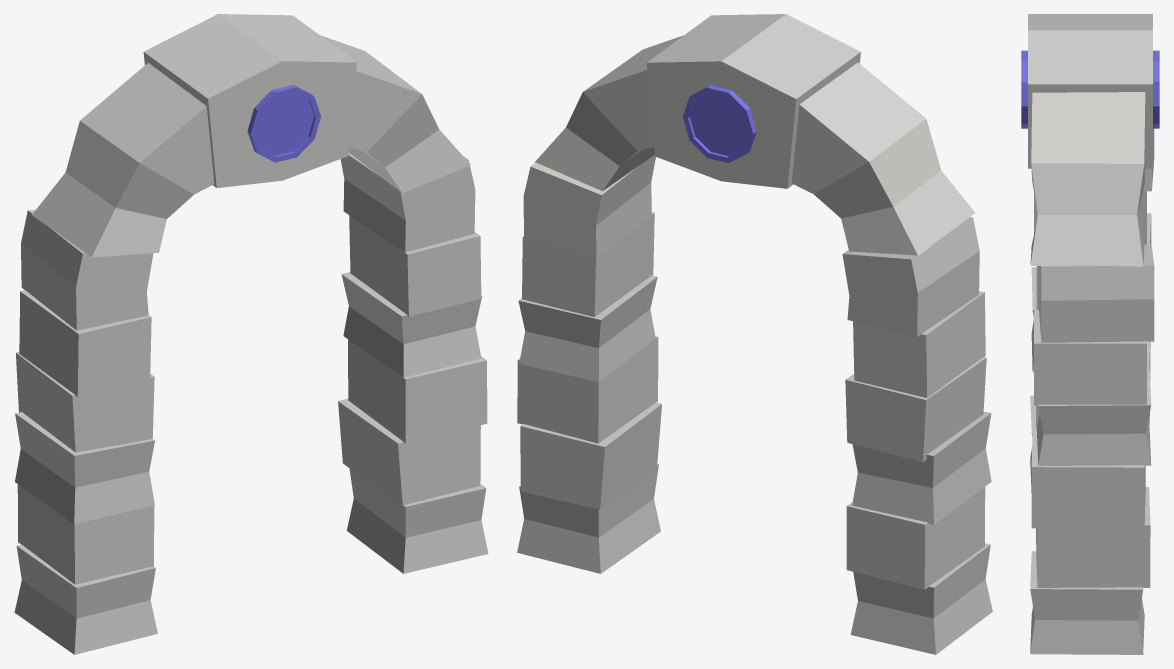
Rendered from Archway_4_White.fbx.
3 views of the same model, side by side, from view 1: azimuth 30°, elevation 25°; view 2: azimuth 150°, elevation 25°; view 3: azimuth 270°, elevation 25° (orthographic). The views are drawn at different scales.
Parts seen in each view (by area): view 1: Archway_4_White_Part_1, Archway_4_White_Part_2; view 2: Archway_4_White_Part_1, Archway_4_White_Part_2; view 3: Archway_4_White_Part_1, Archway_4_White_Part_2.
Part boxes in pixels (<box>): Archway_4_White_Part_1: <box>14,14,488,654</box>; Archway_4_White_Part_2: <box>247,85,320,162</box>; Archway_4_White_Part_1: <box>517,14,992,654</box>; Archway_4_White_Part_2: <box>683,85,756,163</box>; Archway_4_White_Part_1: <box>1028,14,1154,654</box>; Archway_4_White_Part_2: <box>1021,50,1159,128</box>.
Bounding box in the file's own units: 570 × 710 × 169.
